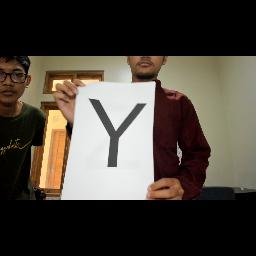y: (84, 94, 150, 170)
